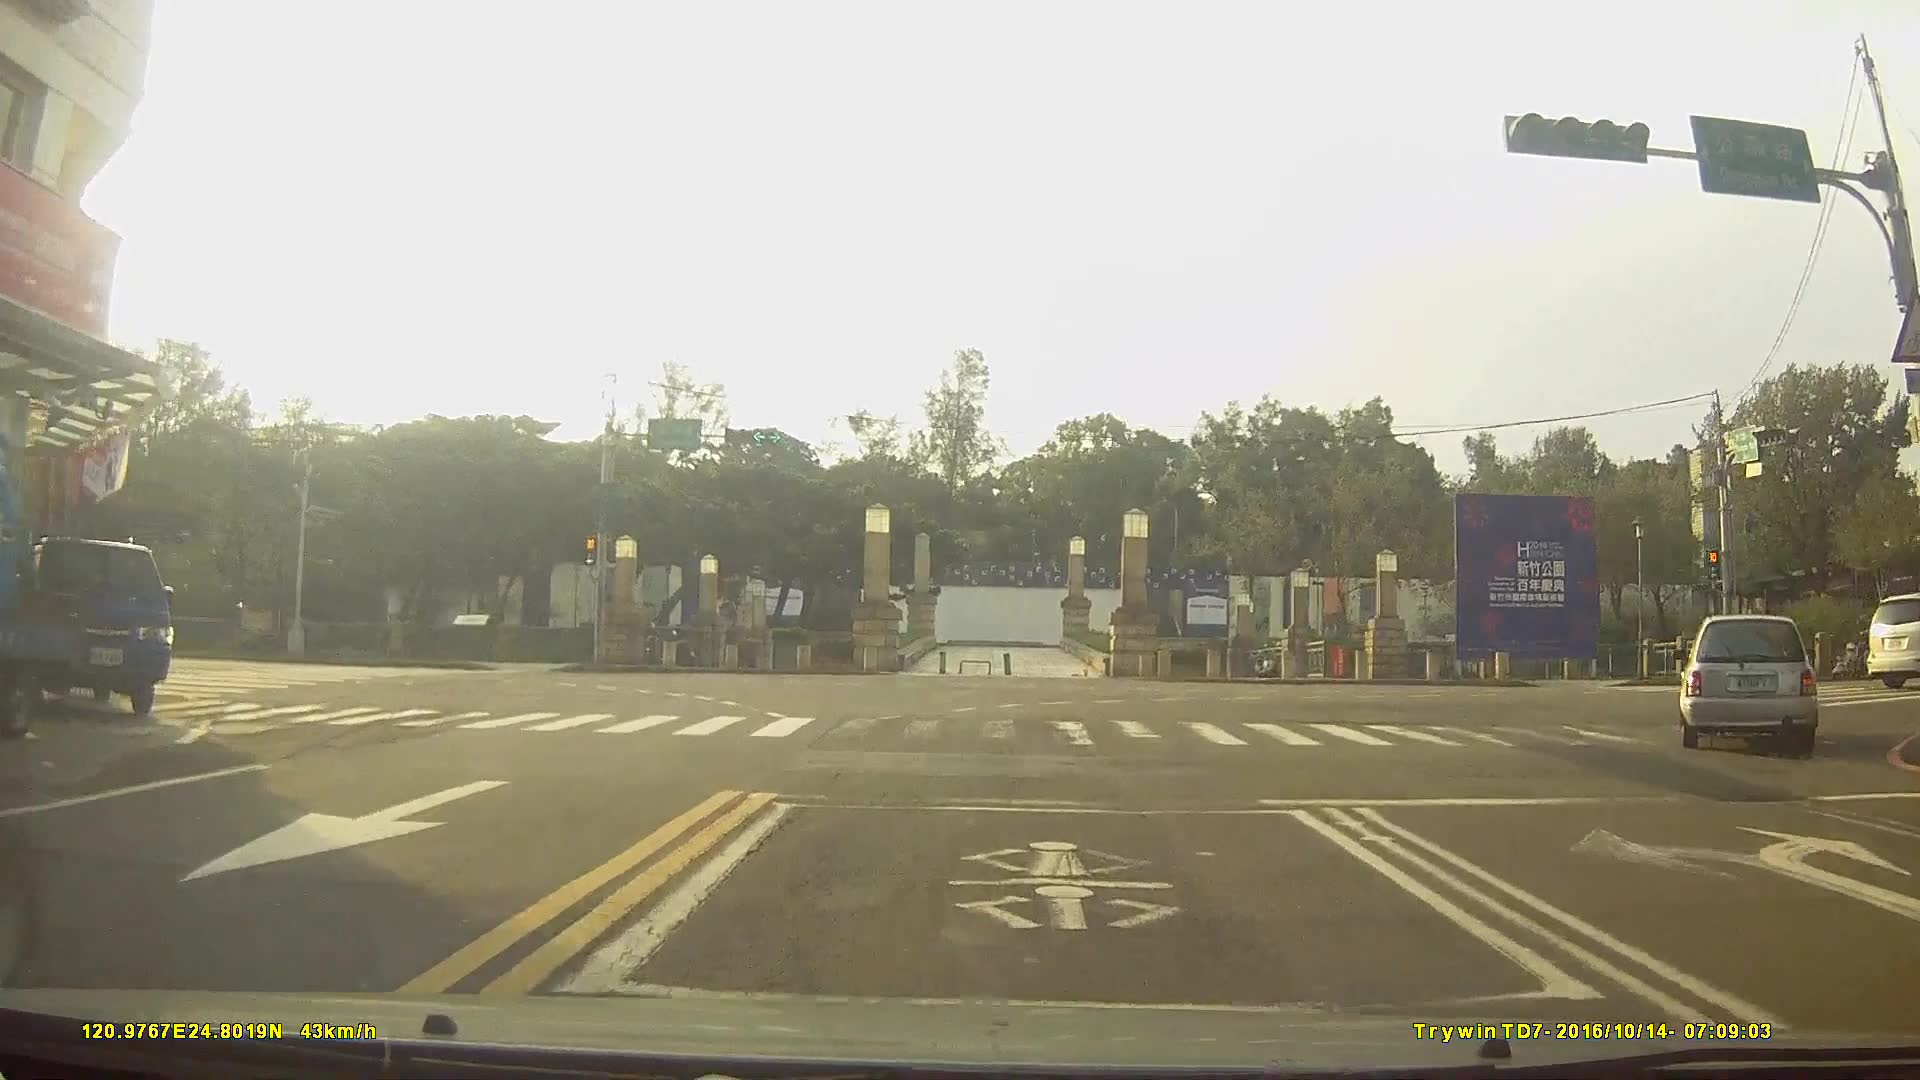vehicle: (20, 533, 171, 717), (1676, 613, 1818, 746), (1866, 589, 1920, 688)
